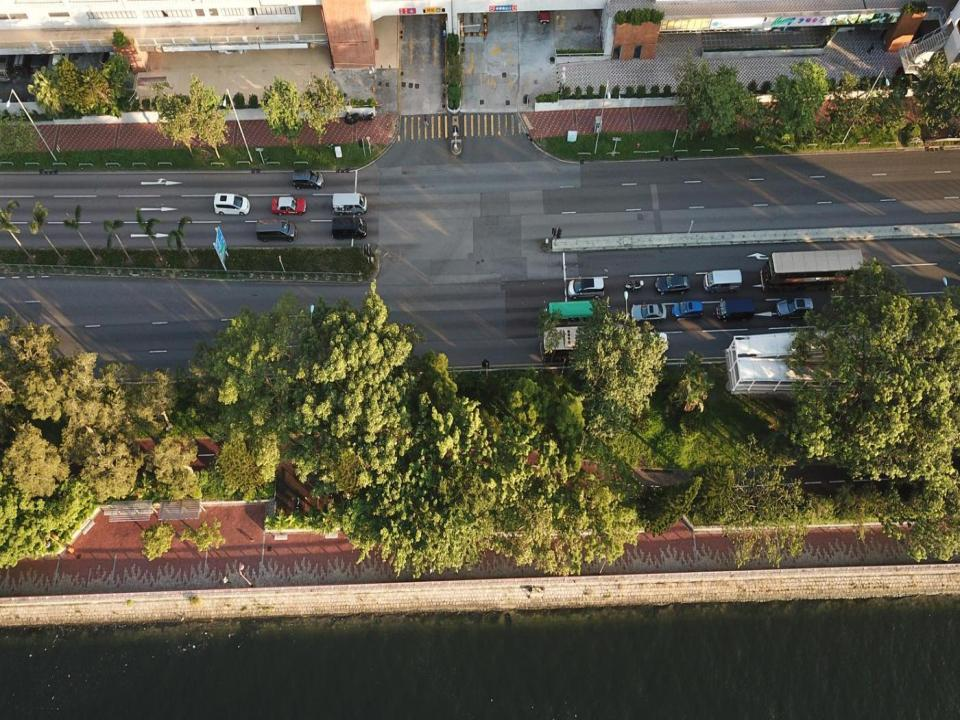bus: (760, 246, 864, 292), (540, 326, 610, 361), (543, 301, 608, 327)
car: (628, 332, 669, 354), (776, 296, 813, 318), (655, 273, 690, 295), (214, 194, 251, 214), (672, 298, 703, 320), (271, 195, 306, 214), (53, 41, 74, 72), (631, 304, 667, 322), (293, 169, 324, 189), (538, 0, 550, 25)
van: (702, 269, 742, 293), (256, 218, 297, 241), (717, 297, 754, 321), (332, 216, 367, 240), (332, 193, 367, 215), (568, 278, 605, 297), (0, 41, 14, 82), (13, 40, 26, 74), (31, 40, 44, 74)
